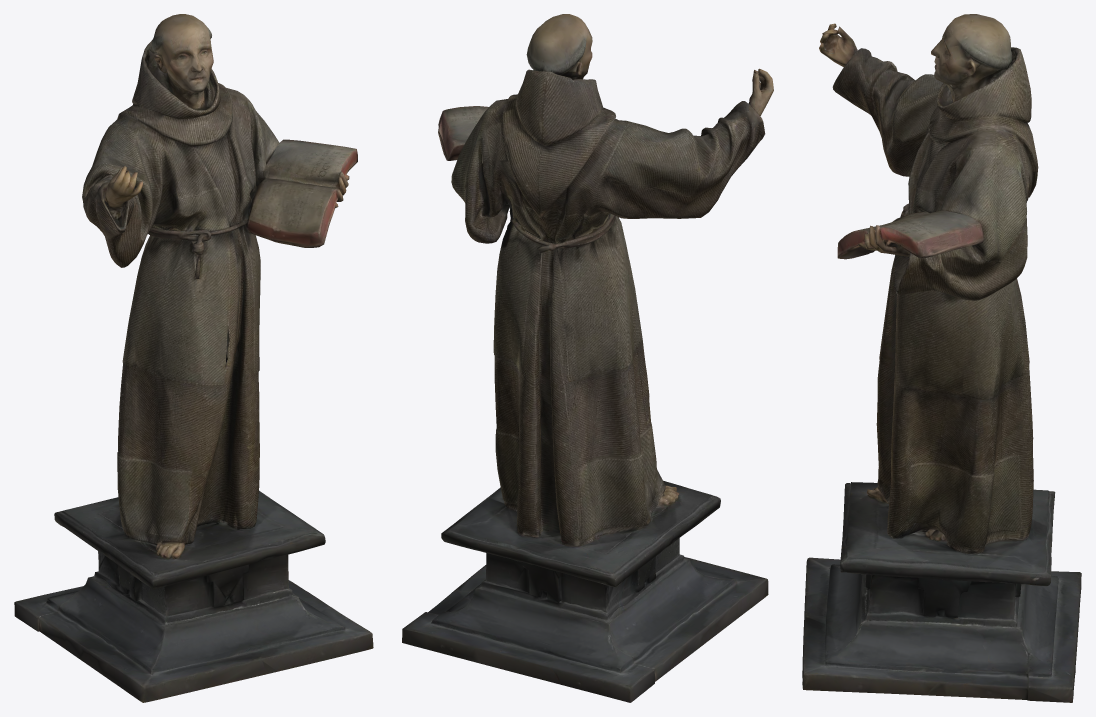
File: pedro_alc.glb
The picture shows the model from 3 angles, left to right: view 1: azimuth 30°, elevation 25°; view 2: azimuth 150°, elevation 25°; view 3: azimuth 270°, elevation 25°; orthographic projection. The views are drawn at different scales.
Visible parts, largest first — view 1: Object_2; view 2: Object_2; view 3: Object_2.
Boxes of the visible parts, x1,y1,x2,y2 form: Object_2: (14, 14, 373, 702); Object_2: (402, 14, 773, 702); Object_2: (802, 14, 1081, 702).
Size of the model in its own units: 0.3862 by 0.7817 by 0.3138.
2 materials, 2 textured.
